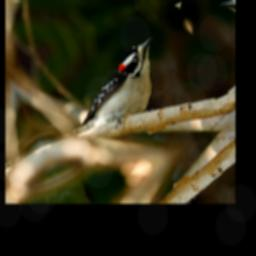Woodpecker: (35, 32, 183, 154)
